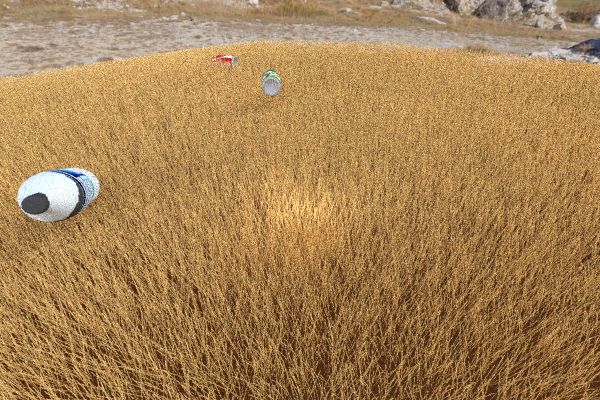Plastic Bottle: (17, 167, 99, 222), (261, 69, 281, 96), (209, 54, 238, 70)
